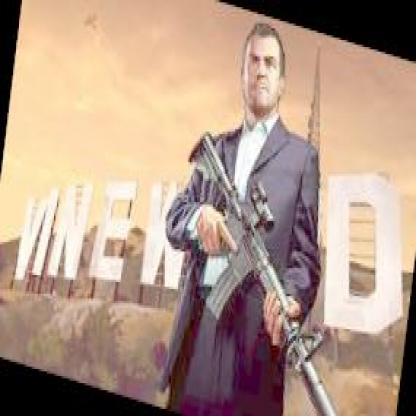rifle: (156, 122, 380, 416)
